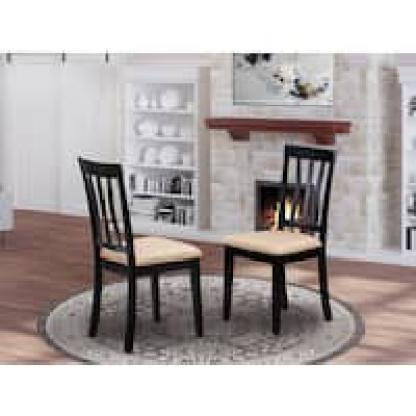chair: (221, 134, 359, 335), (65, 159, 202, 361)
